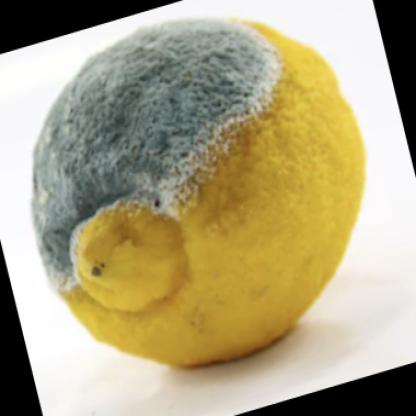rotten: (31, 22, 365, 362)
